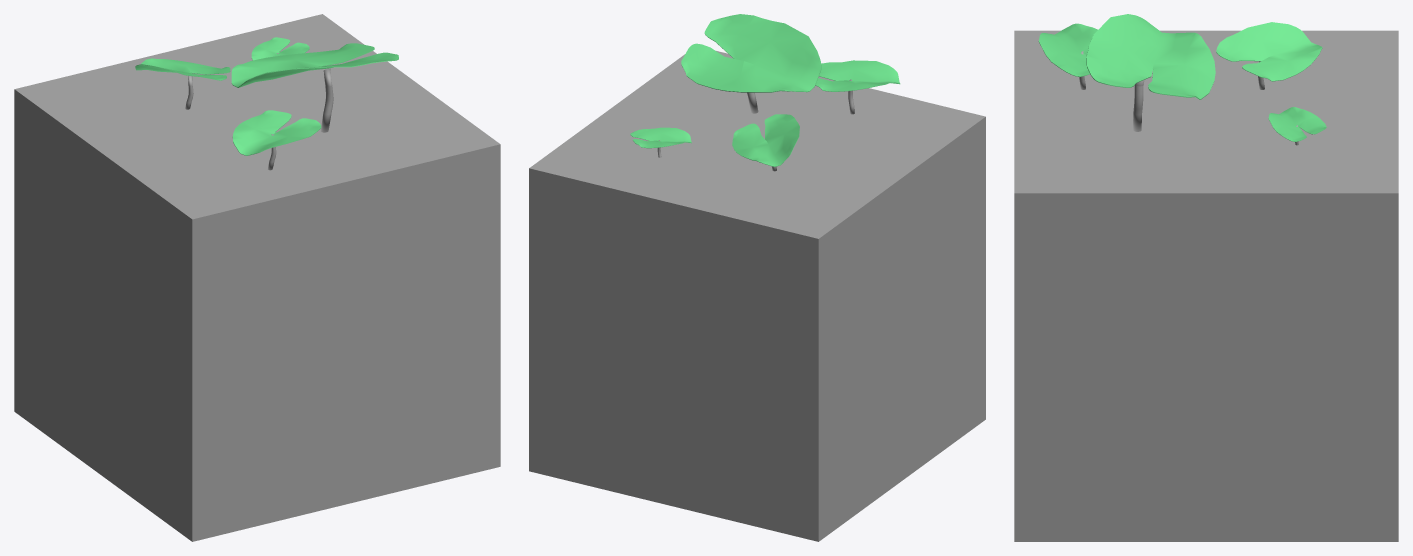
The model's file is Lilys.fbx.
The picture shows the model from 3 angles, left to right: view 1: azimuth 30°, elevation 25°; view 2: azimuth 150°, elevation 25°; view 3: azimuth 270°, elevation 25°; orthographic projection. The views are drawn at different scales.
Visible parts, largest first — view 1: Lillies_Mesh; view 2: Lillies_Mesh; view 3: Lillies_Mesh.
Part boxes in pixels (x1,y1,x2,y2): Lillies_Mesh: (14,14,500,541); Lillies_Mesh: (529,14,985,541); Lillies_Mesh: (1014,14,1398,541).
Bounding box in the file's own units: 1 × 1.26 × 1.
